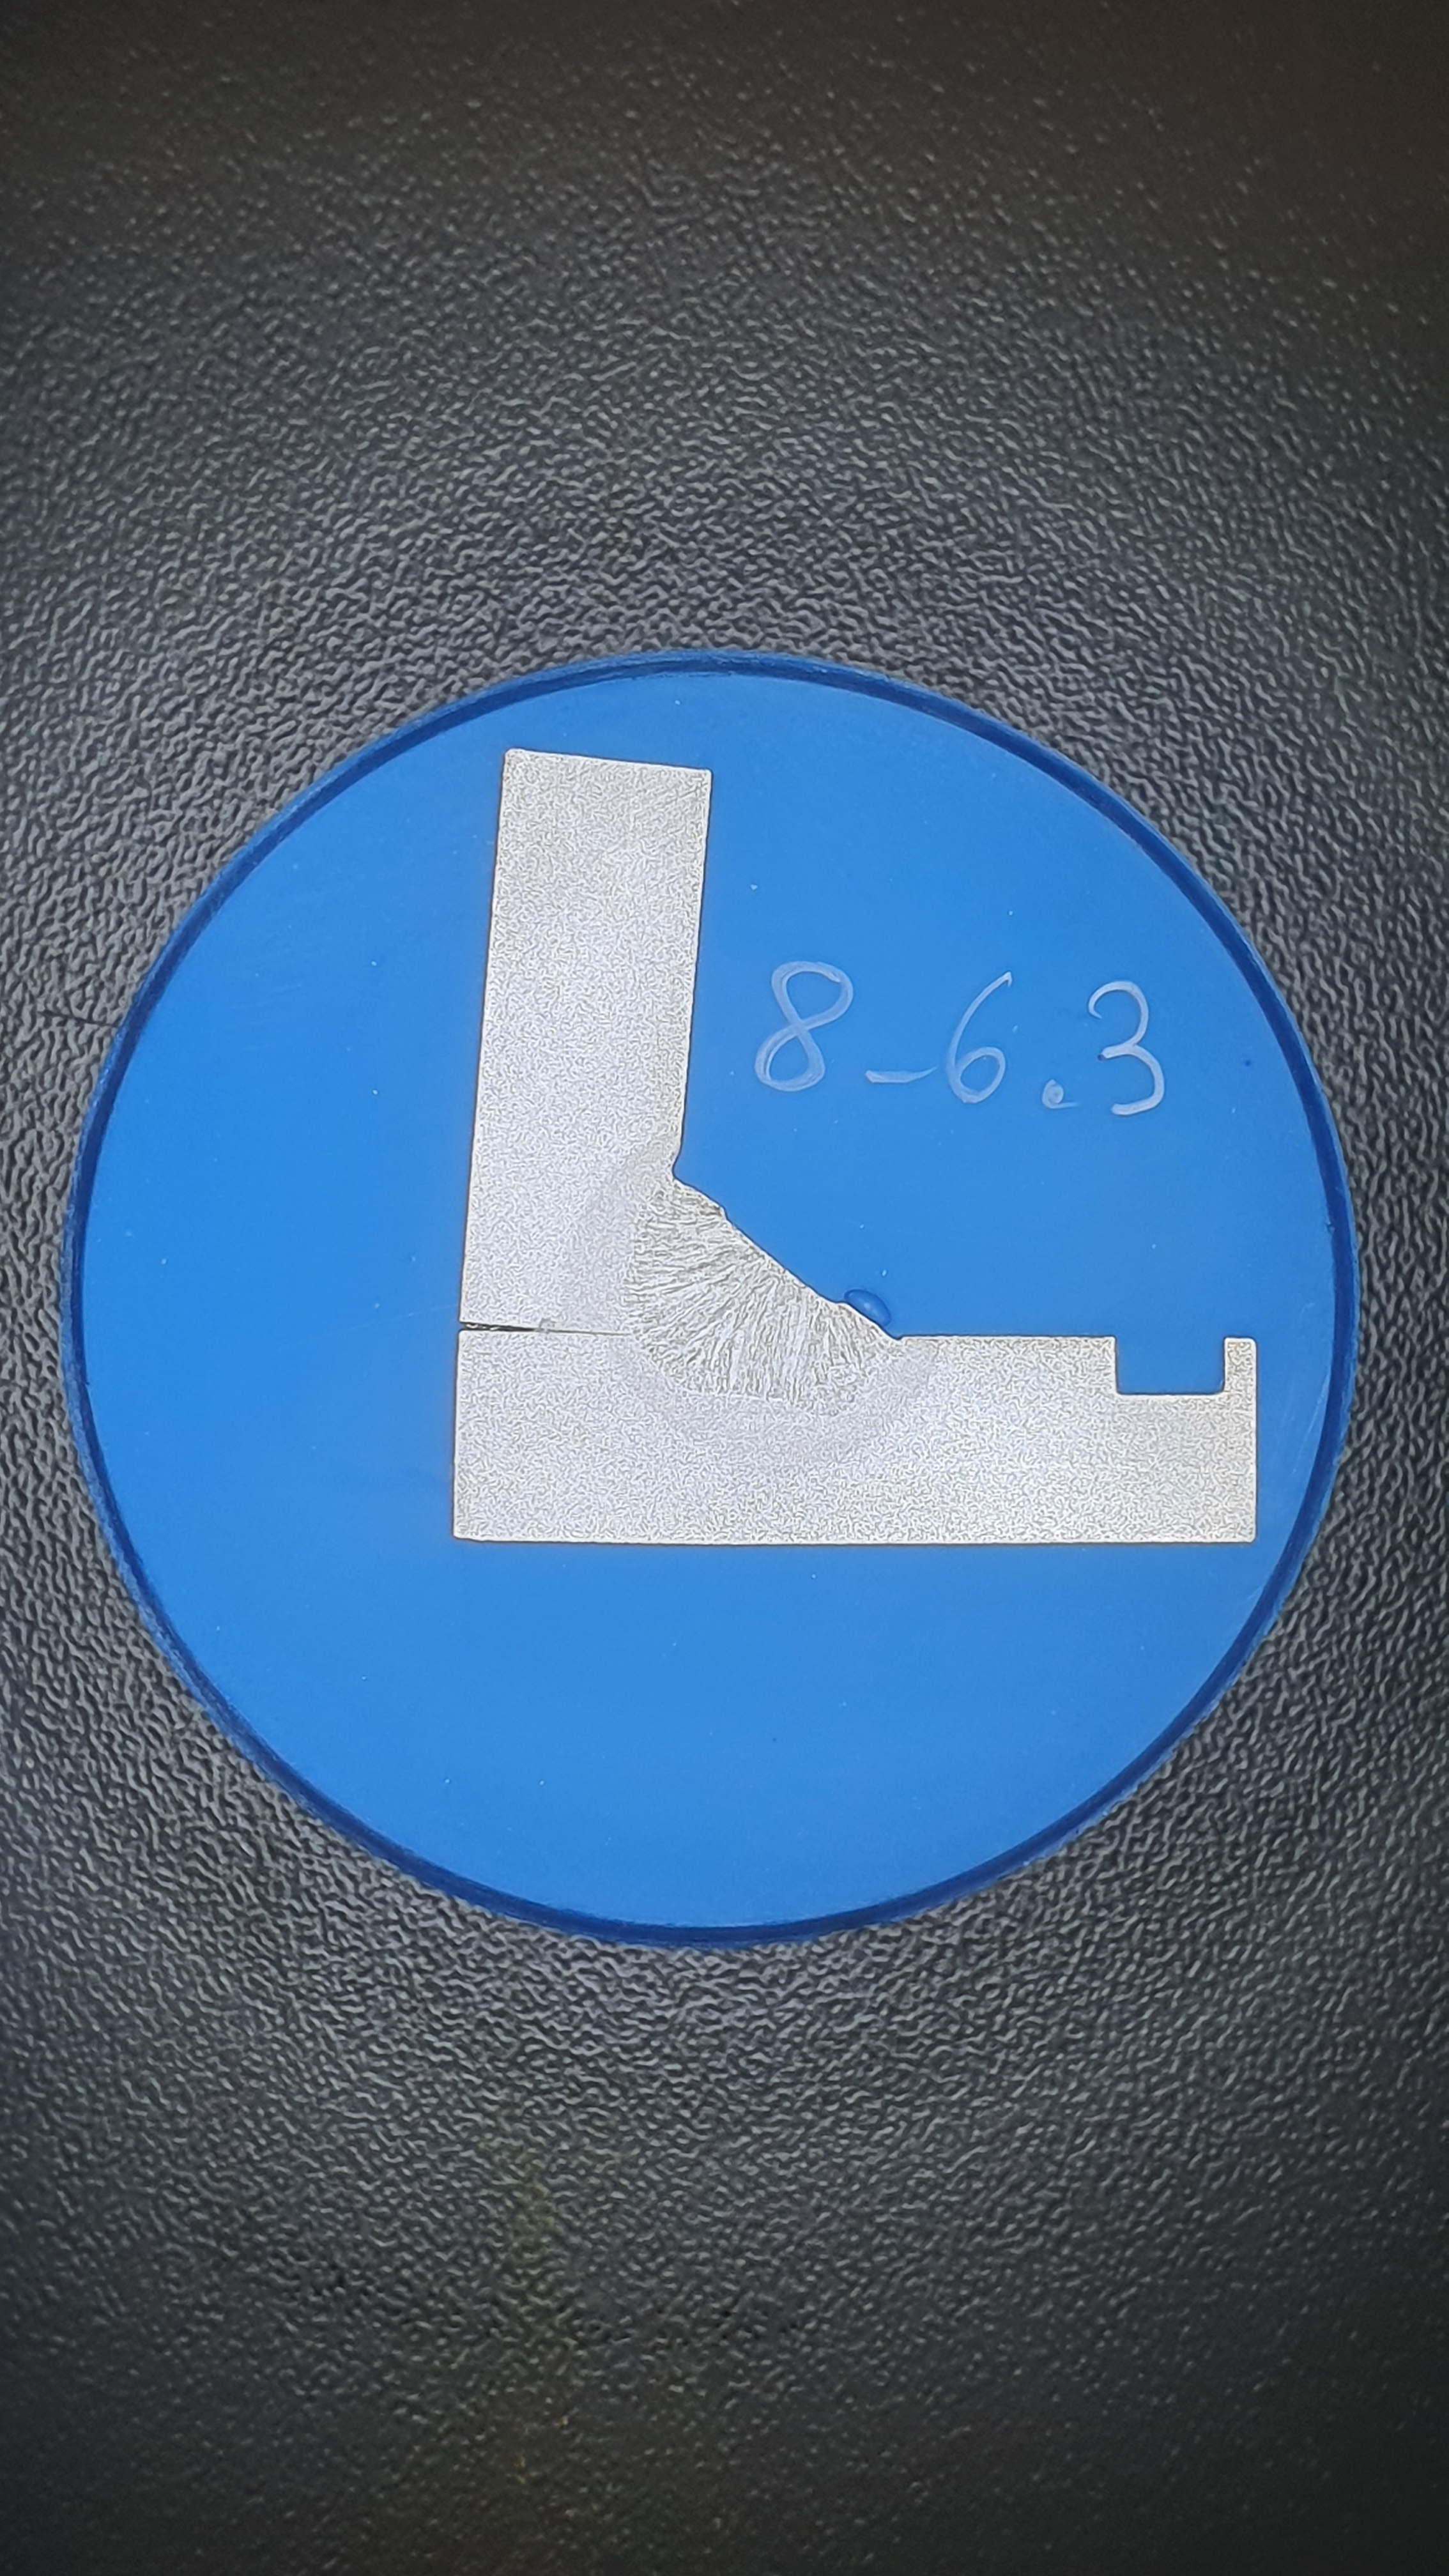Fusion: (610, 1164, 908, 1415)
Hintergrund: (81, 669, 1334, 1928)
Metall: (453, 747, 1258, 1545)
Nebenbereich: (563, 1138, 941, 1465)
